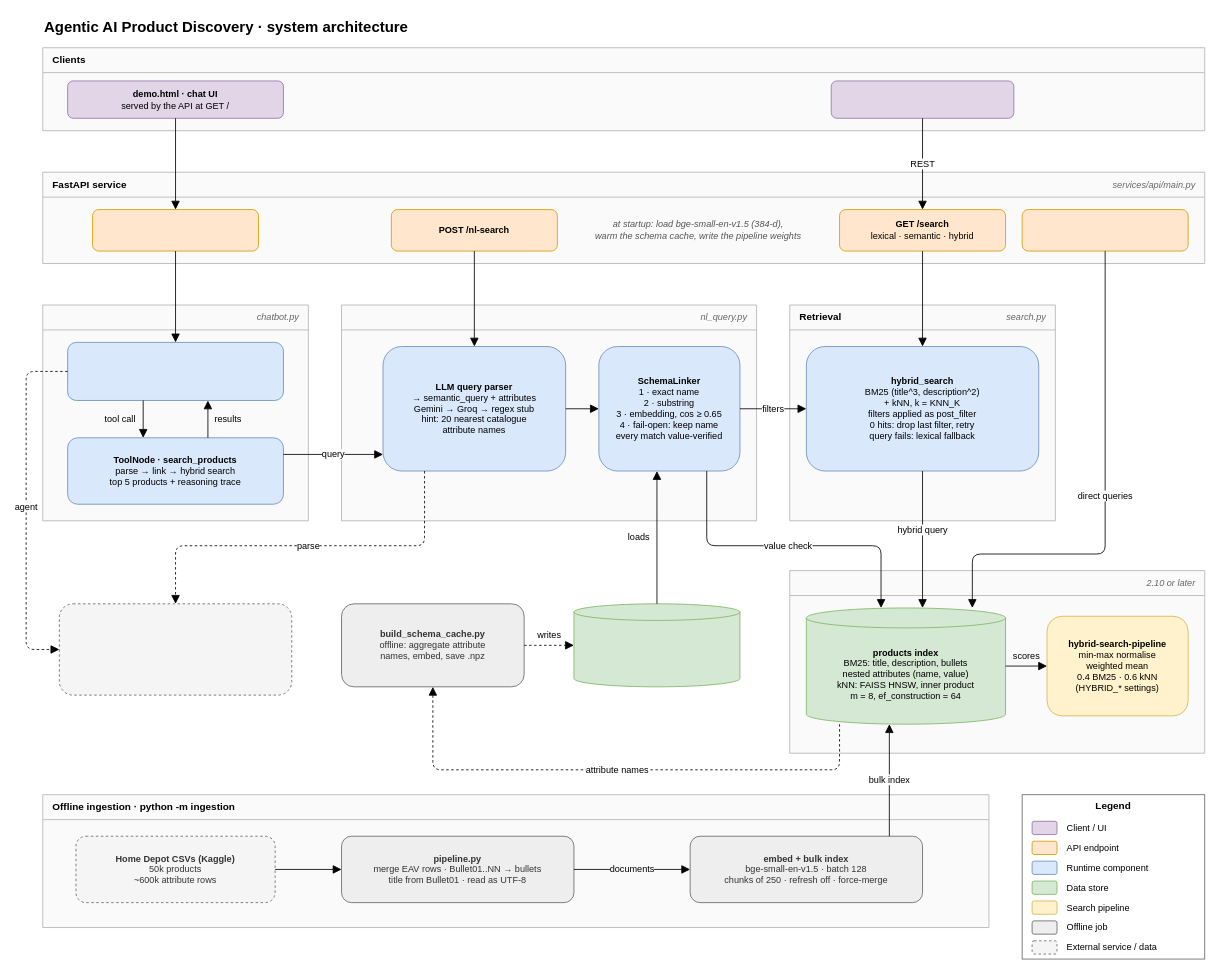
This 1219x974 diagram has some shape labels left out. Here are the shapes that lost their labels. From the top down, the box of each, then its label:
(830, 80, 1014, 118): HTTP clients curl · Swagger UI at /docs
(92, 209, 259, 251): POST /chat
(1021, 209, 1188, 251): GET /suggest · GET /health POST /index/product
(67, 342, 283, 400): chat node LLM with the search_products tool sessions kept in memory
(42, 304, 308, 521): LangGraph agent
(341, 304, 757, 521): Query understanding
(59, 603, 292, 695): LLM providers (external) Google Gemini · LLM_MODEL Groq llama-3.3-70b · fallback
(573, 603, 740, 687): schema_cache.npz 4,647 attribute names × 384-d embeddings
(789, 570, 1205, 753): OpenSearch
